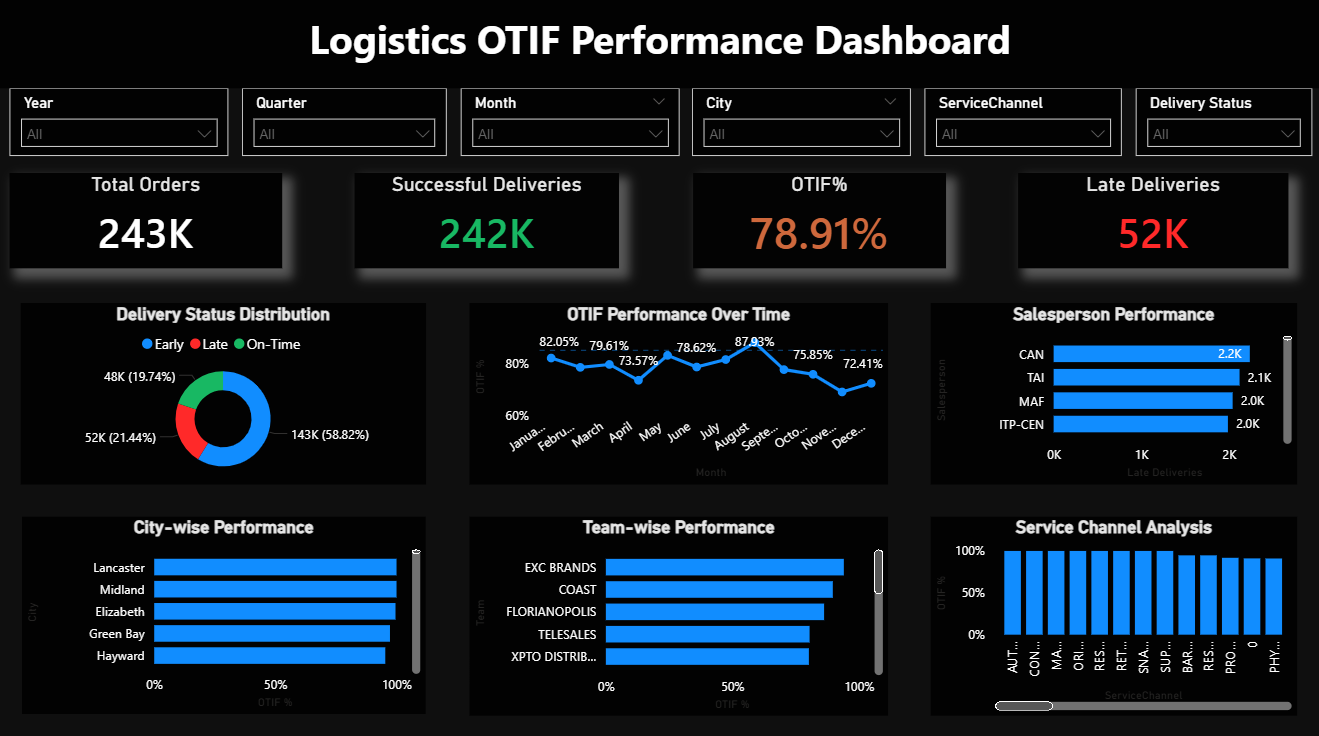

This screenshot's page, from the dashboard's own definition file:
{"tool":"powerbi","page":{"name":"Overview","canvas":[1280,720],"ordinal":0},"visuals":[{"type":"card","title":"Total Orders","fields":{"Values":["Orders.Total Orders"]},"box":[12.1,168.8,263,91.7],"z":0},{"type":"card","title":"Successful Deliveries","fields":{"Values":["Orders.Successful Deliveries"]},"box":[345.5,168.8,255.6,91.7],"z":1000},{"type":"card","title":"OTIF%","fields":{"Values":["Orders.OTIF %"]},"box":[671.5,168.8,243.7,91.7],"z":2000},{"type":"card","title":"Late Deliveries","fields":{"Values":["Orders.Late Deliveries"]},"box":[985.6,168.8,260.5,91.7],"z":3000},{"type":"donutChart","title":"Delivery Status Distribution","fields":{"Category":["Orders.Delivery Status"],"Y":["Orders.Total Orders"]},"box":[22.9,294.4,390.9,174.9],"z":4000},{"type":"lineChart","title":"OTIF Performance Over Time","fields":{"Category":["Orders.OrderDate.Variation.Date Hierarchy.Month"],"Y":["Orders.OTIF %"]},"box":[455.4,294.4,404.2,174.9],"z":5000},{"type":"clusteredBarChart","title":"Salesperson Performance","fields":{"Category":["Salesperson.Salesperson"],"Y":["Orders.Late Deliveries"]},"box":[901.2,294.4,353.5,174.9],"z":6000},{"type":"slicer","title":"City-wise Performance","fields":{"Values":["Orders.OrderDate.Variation.Date Hierarchy.Month"]},"box":[447.1,86.4,211.3,65.9],"z":7000},{"type":"slicer","fields":{"Values":["Orders.OrderDate.Variation.Date Hierarchy.Year"]},"box":[12.3,86.4,211.3,65.9],"z":8000},{"type":"slicer","fields":{"Values":["City.City"]},"box":[671.3,86.4,211.3,65.9],"z":9000},{"type":"slicer","fields":{"Values":["Orders.OrderDate.Variation.Date Hierarchy.Quarter"]},"box":[236.6,86.4,197.6,65.9],"z":10000},{"type":"slicer","fields":{"Values":["Orders.Delivery Status"]},"box":[1099.1,86.4,170.2,65.9],"z":11000},{"type":"slicer","fields":{"Values":["Customer.ServiceChannel"]},"box":[895.5,86.4,190.7,65.9],"z":12000},{"type":"clusteredBarChart","title":"City-wise Performance","fields":{"Y":["Orders.OTIF %"],"Category":["City.City"]},"box":[24.1,500.7,389.7,190.6],"z":13000},{"type":"clusteredBarChart","title":"Team-wise Performance","fields":{"Y":["Orders.OTIF %"],"Category":["Salesperson.Team"]},"box":[455.4,500.7,404.2,191.8],"z":14000},{"type":"clusteredColumnChart","title":"Service Channel Analysis","fields":{"Y":["Orders.OTIF %"],"Category":["Customer.ServiceChannel"]},"box":[901.2,500.7,353.5,191.8],"z":15000},{"type":"textbox","box":[0,0,1280,86.9],"z":16000}]}

Visuals, with their boxes in screenshot pixels (x1, y1, x2, y2), scaled from the page's 1280x720 canvas onto the 1319x736 screenshot:
"Total Orders" card: bbox=(12, 173, 283, 266)
"Successful Deliveries" card: bbox=(356, 173, 619, 266)
"OTIF%" card: bbox=(692, 173, 943, 266)
"Late Deliveries" card: bbox=(1016, 173, 1284, 266)
"Delivery Status Distribution" donutChart: bbox=(24, 301, 426, 480)
"OTIF Performance Over Time" lineChart: bbox=(469, 301, 886, 480)
"Salesperson Performance" clusteredBarChart: bbox=(929, 301, 1293, 480)
"City-wise Performance" slicer: bbox=(461, 88, 678, 156)
slicer - Orders.OrderDate.Variation.Date Hierarchy.Year: bbox=(13, 88, 230, 156)
slicer - City.City: bbox=(692, 88, 909, 156)
slicer - Orders.OrderDate.Variation.Date Hierarchy.Quarter: bbox=(244, 88, 447, 156)
slicer - Orders.Delivery Status: bbox=(1133, 88, 1308, 156)
slicer - Customer.ServiceChannel: bbox=(923, 88, 1119, 156)
"City-wise Performance" clusteredBarChart: bbox=(25, 512, 426, 707)
"Team-wise Performance" clusteredBarChart: bbox=(469, 512, 886, 708)
"Service Channel Analysis" clusteredColumnChart: bbox=(929, 512, 1293, 708)
textbox: bbox=(0, 0, 1318, 89)
